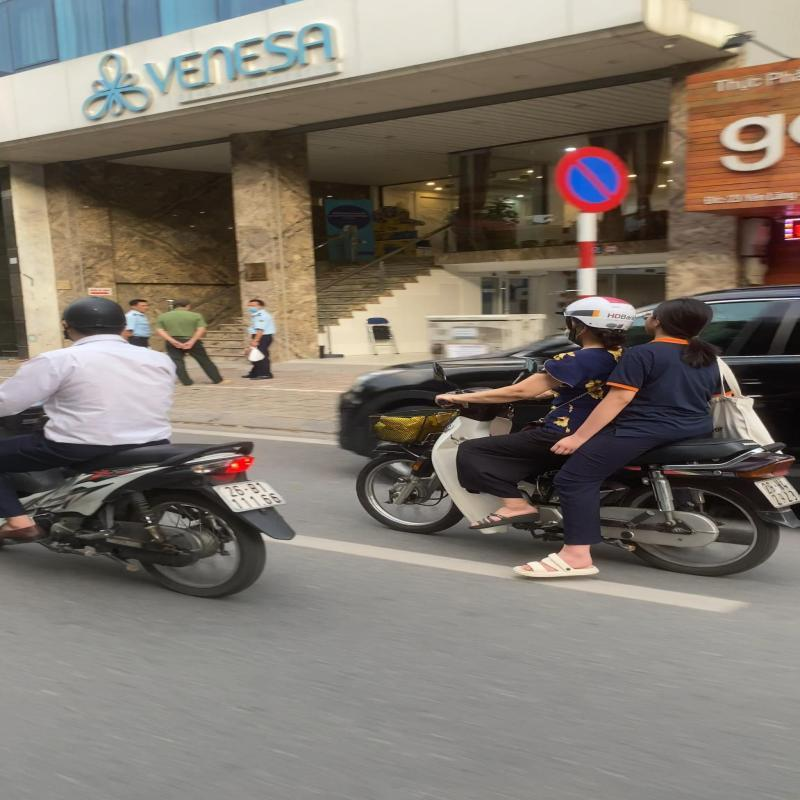helmet: (562, 295, 634, 336), (60, 295, 126, 336)
licenseplate: (206, 478, 294, 513), (750, 475, 800, 508)
motorcyclist: (342, 285, 800, 585), (0, 289, 301, 602)
nohelmet: (641, 296, 720, 342)
